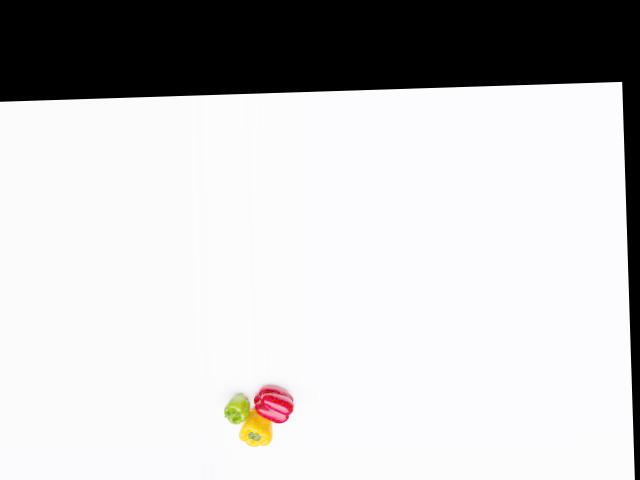bell_pepper: (216, 392, 251, 427)
